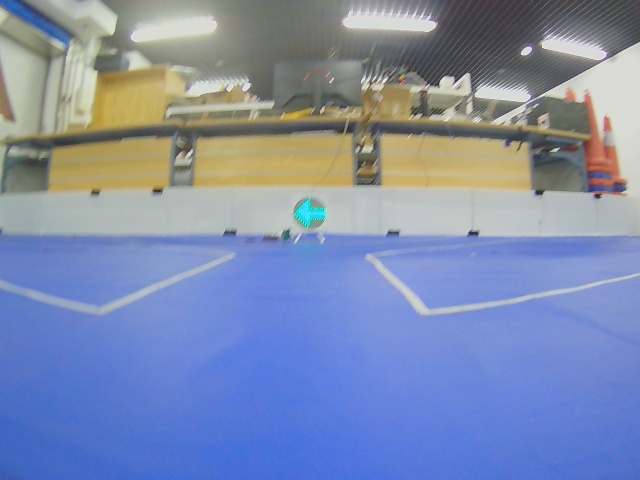left_green: (293, 197, 326, 228)
